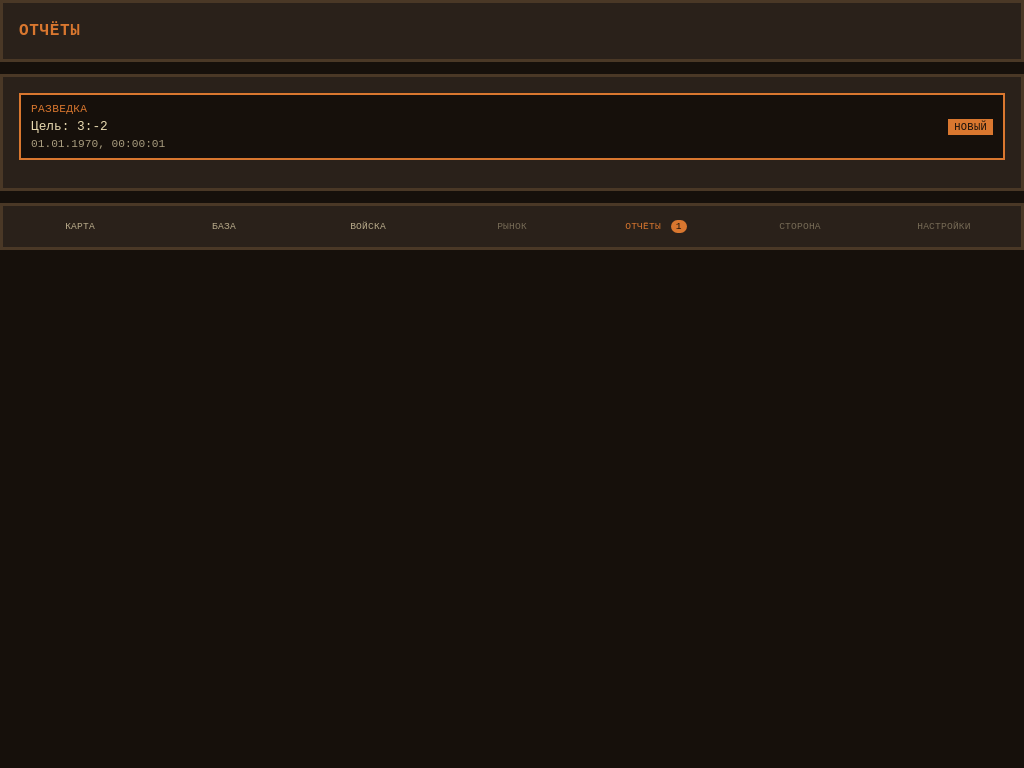
Test: ReportsScreen — report detail per type › renders a scout report at buildings tier with the full building list
Step 1. Click the text "Разведка" → (59, 109), box [31,103,87,115]
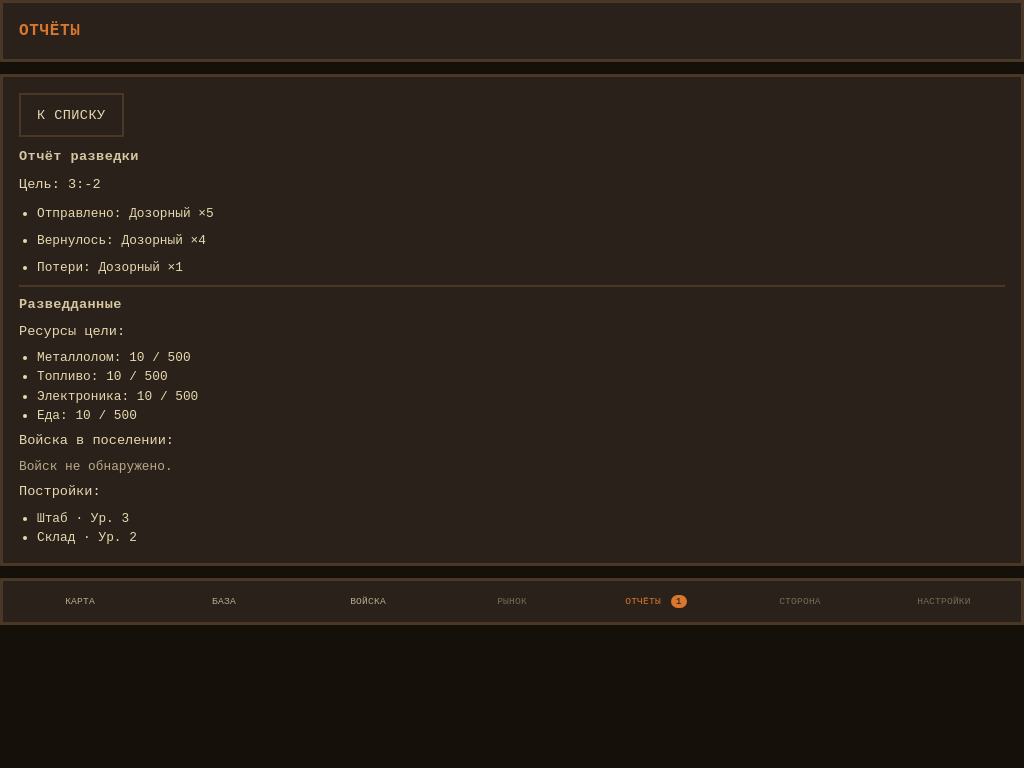
Expected: the heading "Отчёт разведки" is shown, [19,149,139,164]
Expected: the list with class "report-detail__buildings" shows "Штаб", [37,511,68,526]
Expected: the list with class "report-detail__buildings" shows "Ур. 3", [91,511,129,526]
